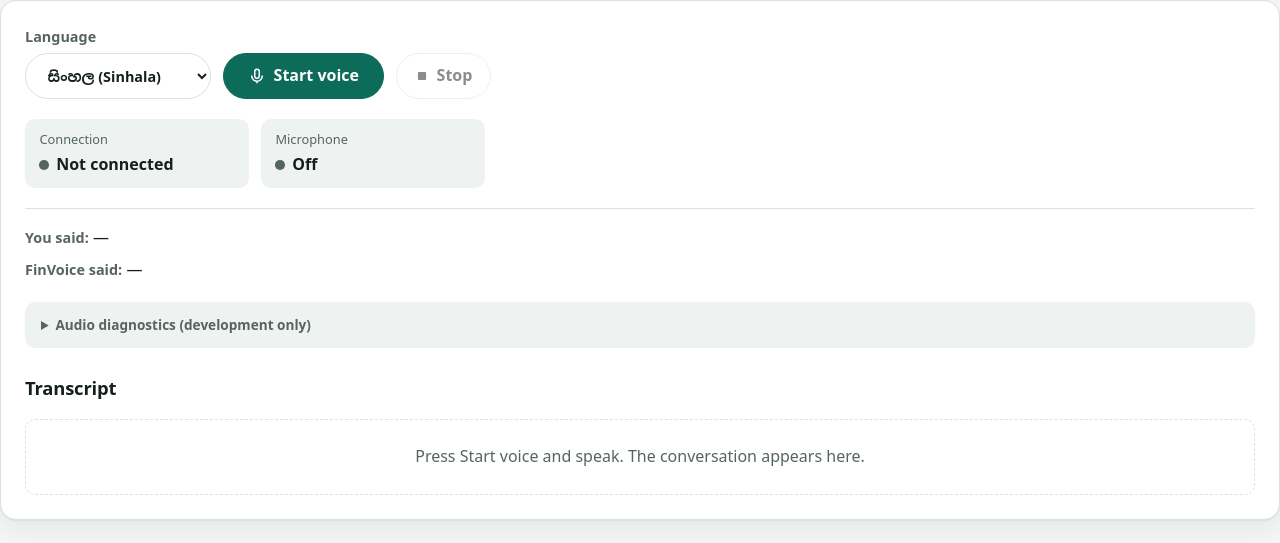
Scenario: local barge-in › stops playback the moment the user speaks over FinVoice, and keeps streaming the microphone
The width and height of the screenshot is (1280, 543).
Click the button "Start voice". click: (303,76)
box: x1=223 y1=53 x2=384 y2=99
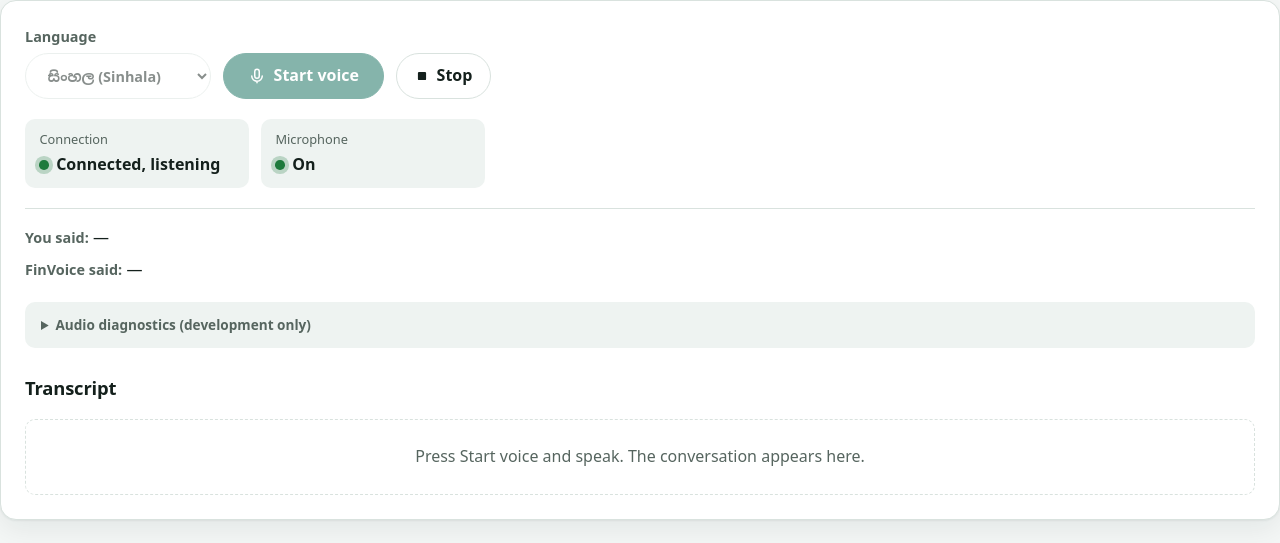
Result: the text with test id "connection-state" reads "Connected, listening" at x1=56 y1=154 x2=220 y2=176
